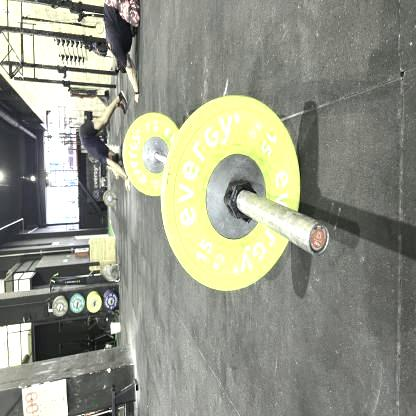barbell: (93, 213, 243, 404)
